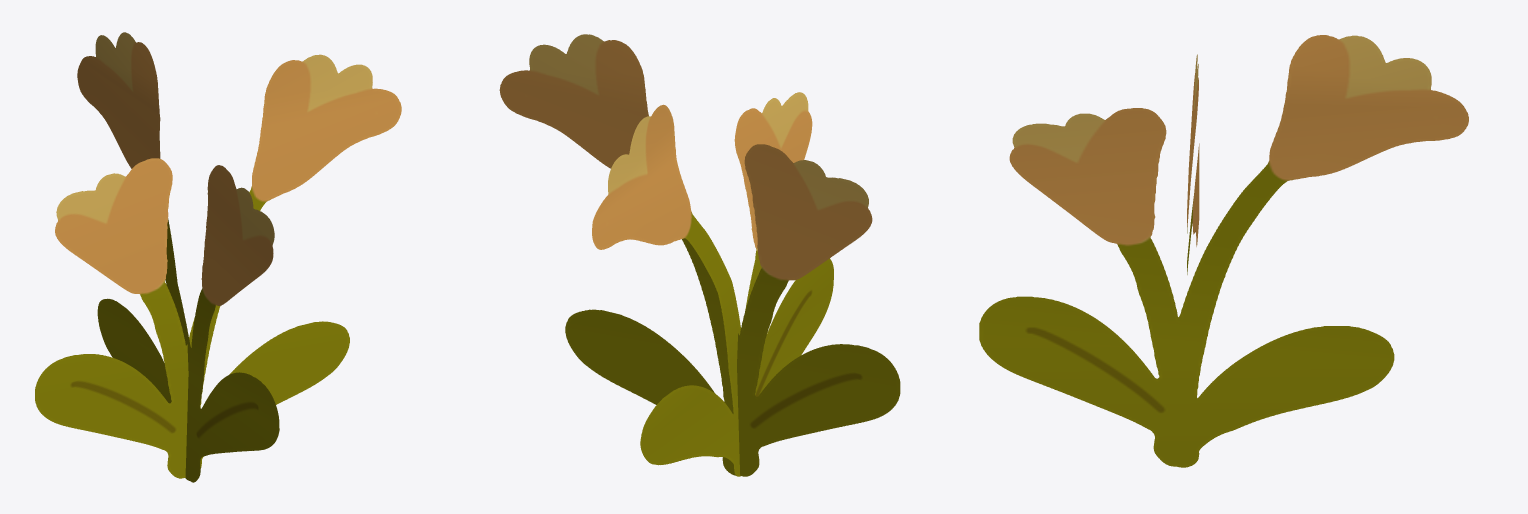
File: TulipsOrange.fbx
3 renders of one model, left to right at view 1: azimuth 30°, elevation 25°; view 2: azimuth 150°, elevation 25°; view 3: azimuth 270°, elevation 25°, orthographic. The views are drawn at different scales.
Parts seen in each view (by area): view 1: OrangeTulip1, OrangeTulip2; view 2: OrangeTulip1, OrangeTulip2; view 3: OrangeTulip2, OrangeTulip1.
Part boxes in pixels (x1,y1,x2,y2): OrangeTulip1: [35, 54, 401, 478]; OrangeTulip2: [77, 32, 279, 482]; OrangeTulip1: [499, 34, 900, 476]; OrangeTulip2: [592, 92, 833, 476]; OrangeTulip2: [979, 35, 1468, 467]; OrangeTulip1: [1187, 54, 1199, 274].
Size of the model in its own units: 1.07 by 0.9758 by 1.07.
